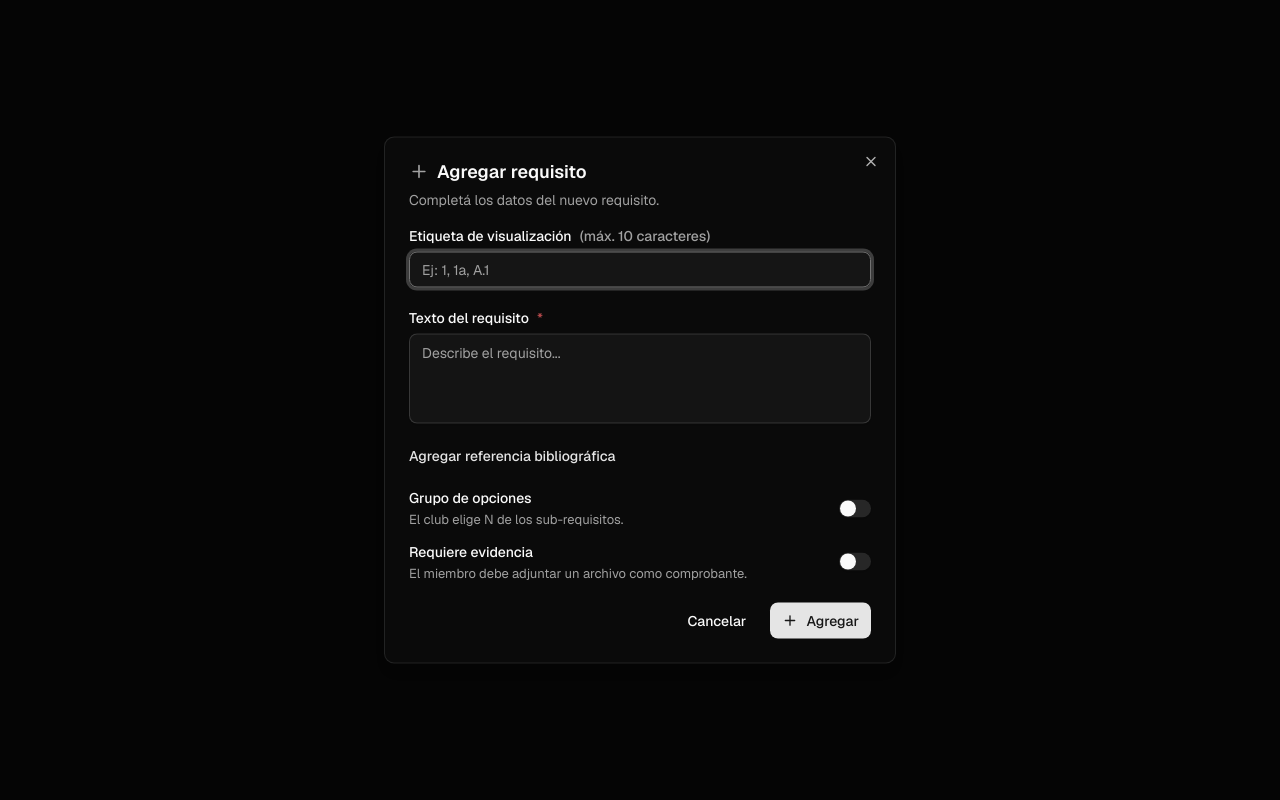
Test: RequirementEditDialog › shows choiceMin input when isChoiceGroup is toggled on
Expected: the field labelled "mínimo de opciones" is not shown
Click the switch with id "isChoiceGroup": [855, 508] box [839,499,871,517]
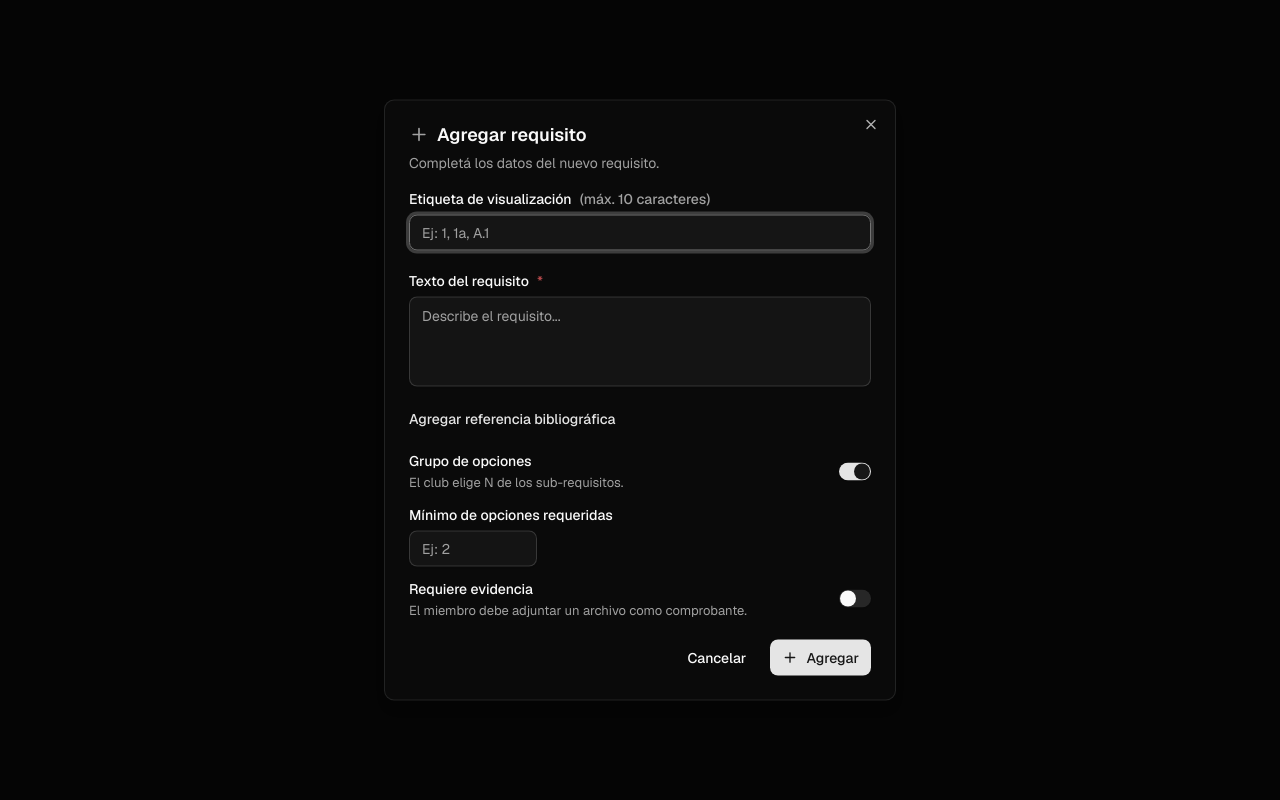
Expected: the number field labelled "Mínimo de opciones requeridas" is shown, [409,530,537,566]
